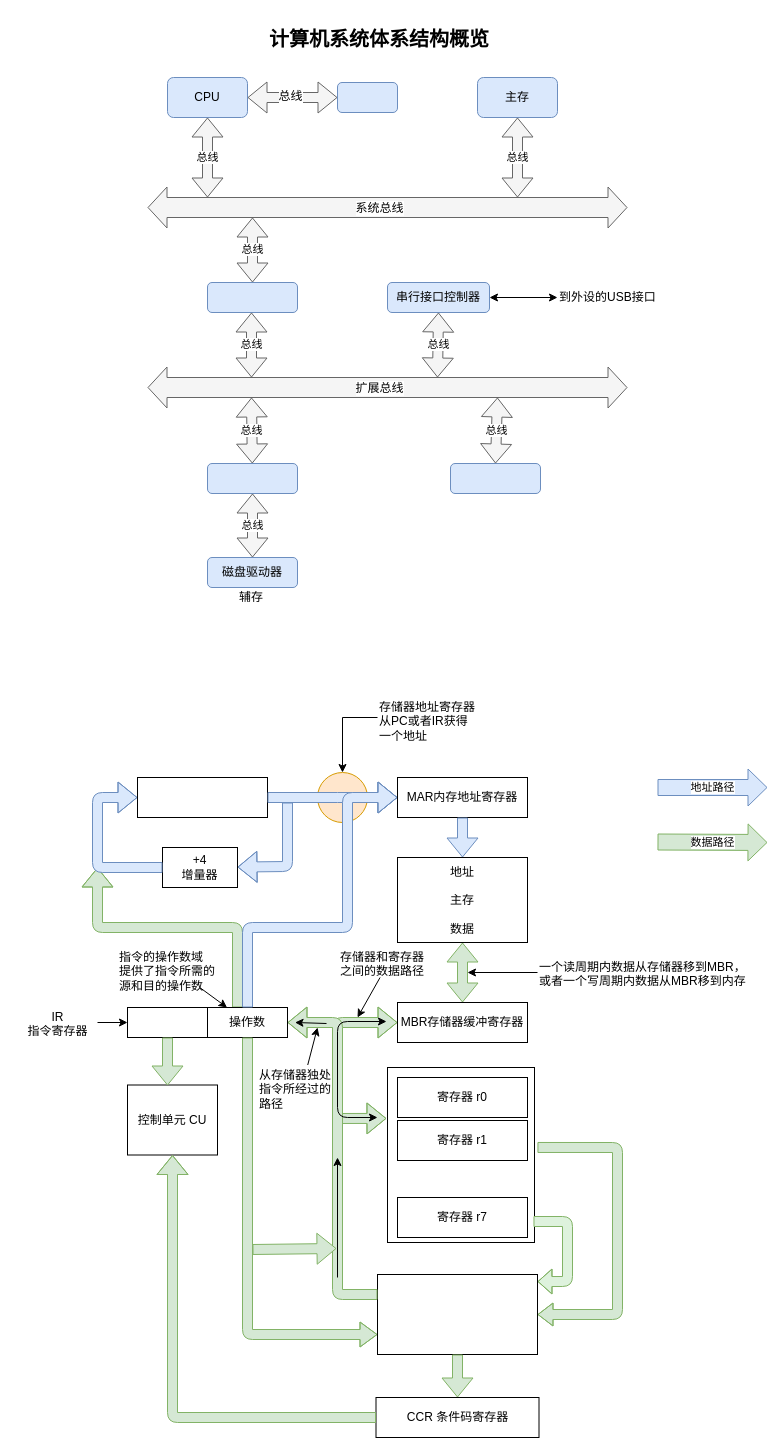
The diagram is 784 pixels wide and 1455 high, and some of its shapes have lost their labels. Here are the shapes that lost their labels. From the top down, the box of each, then its label:
(336, 82, 398, 112): Cache
(206, 282, 298, 312): 扩展总线接口
(206, 462, 298, 494): I/O 控制器
(450, 462, 540, 494): 显示控制器
(136, 776, 268, 818): PC程序计数器
(126, 1006, 208, 1038): 操作码
(376, 1274, 538, 1354): 算数逻辑单元 ALU
